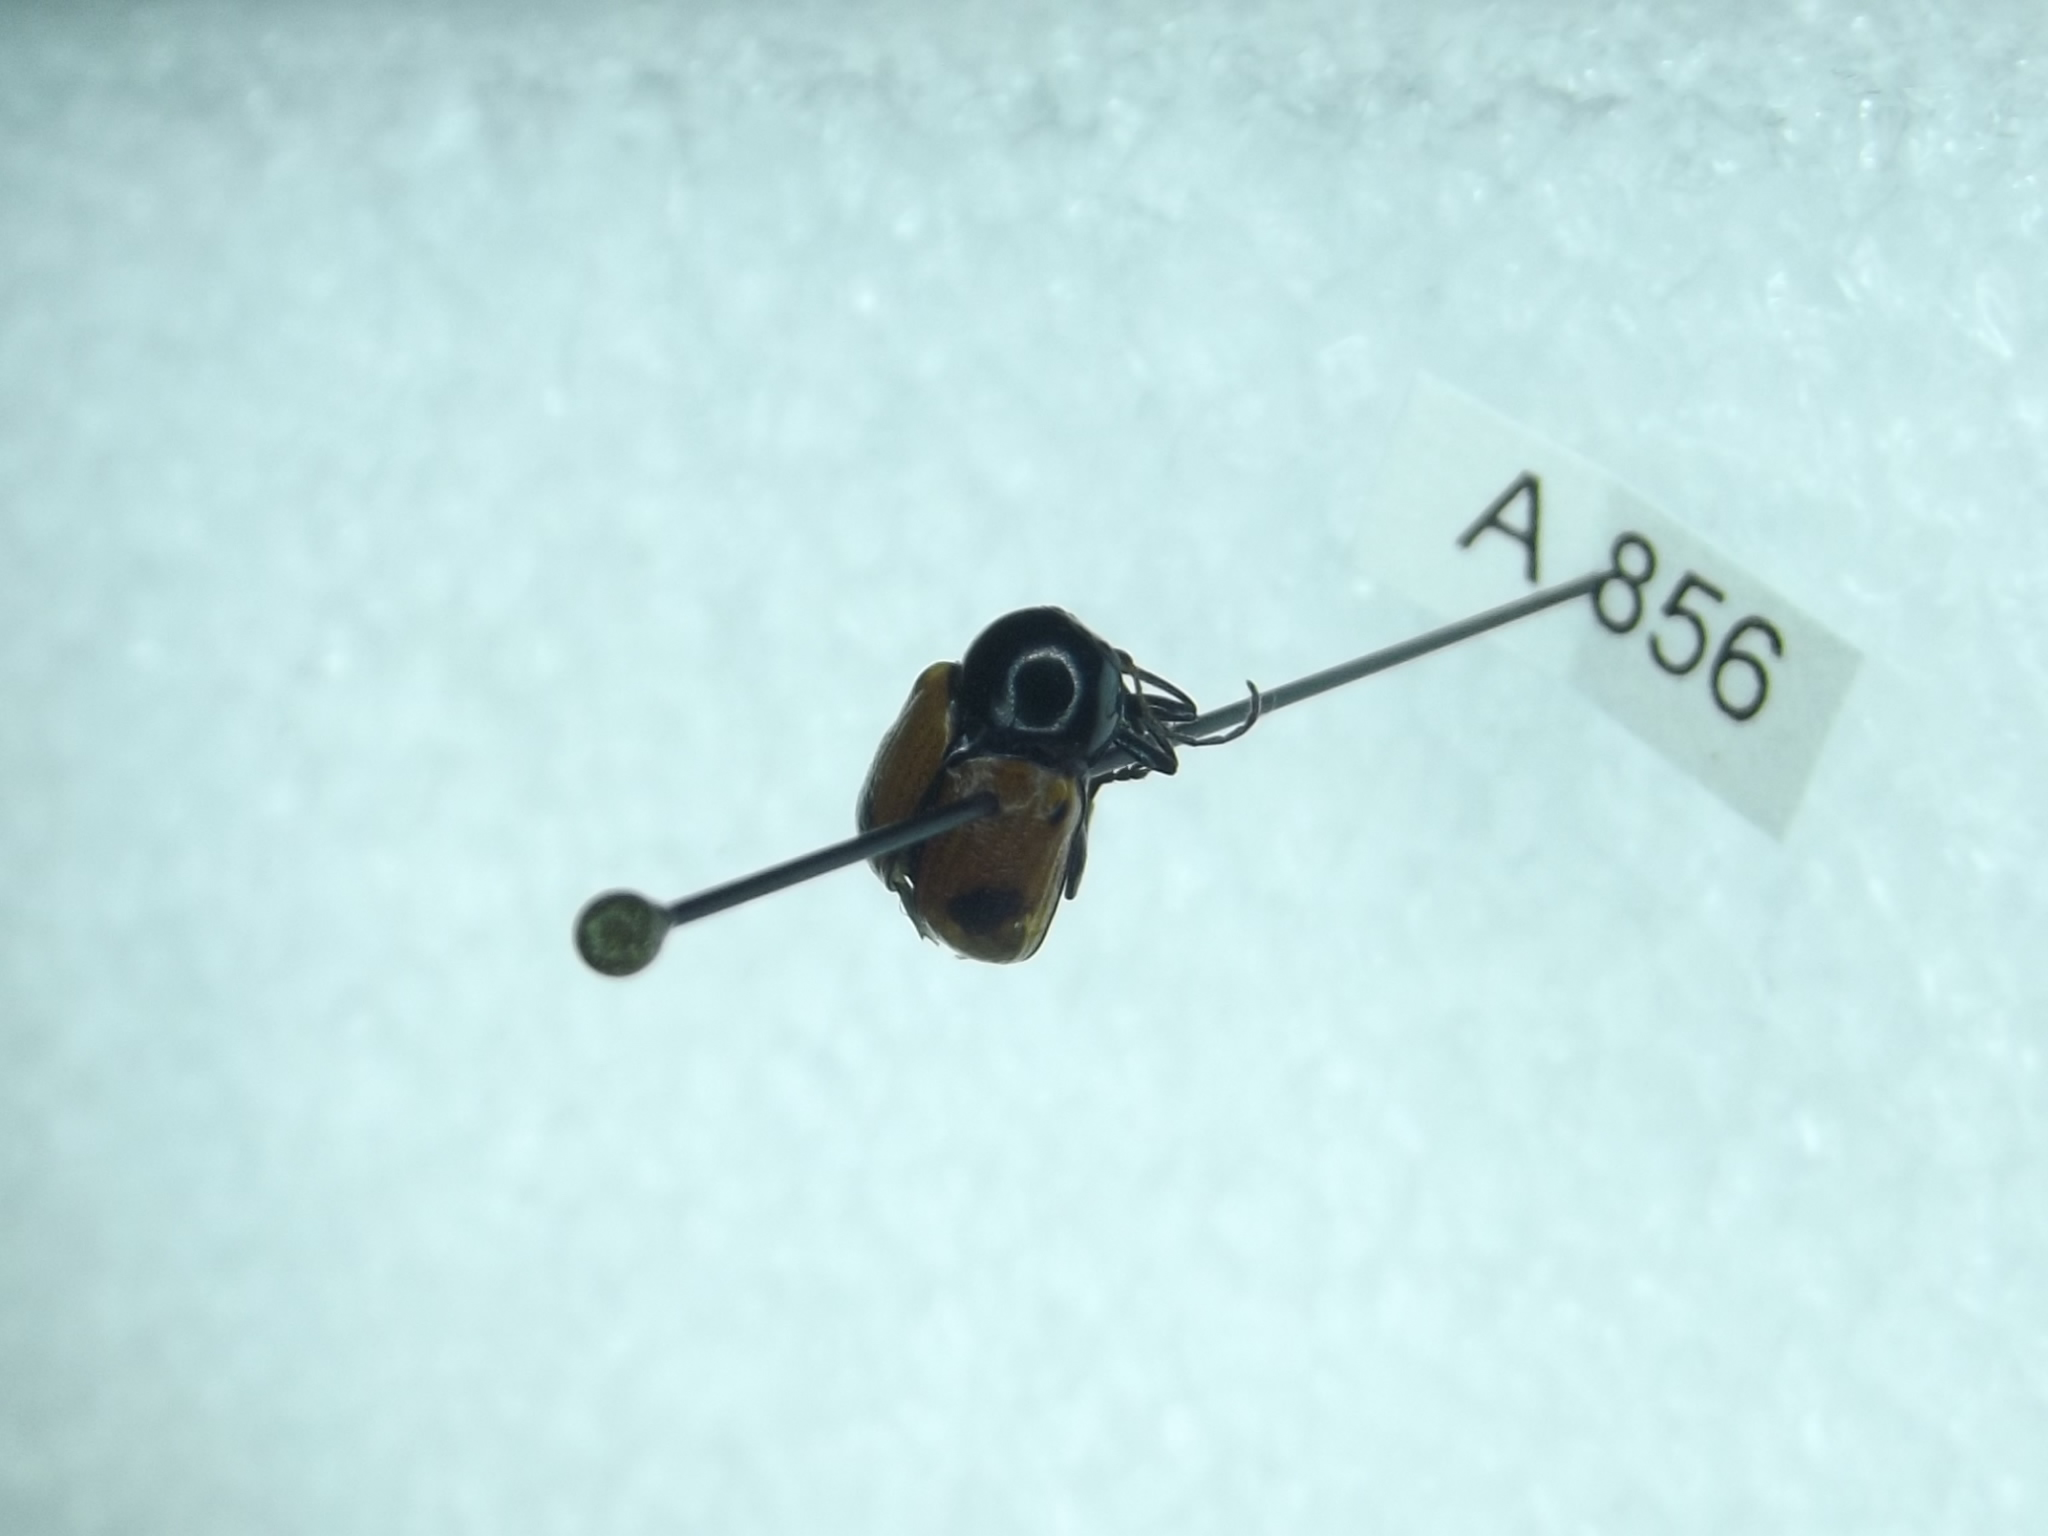Cryptocephalus_bipunctatus: (835, 594, 1271, 999)
